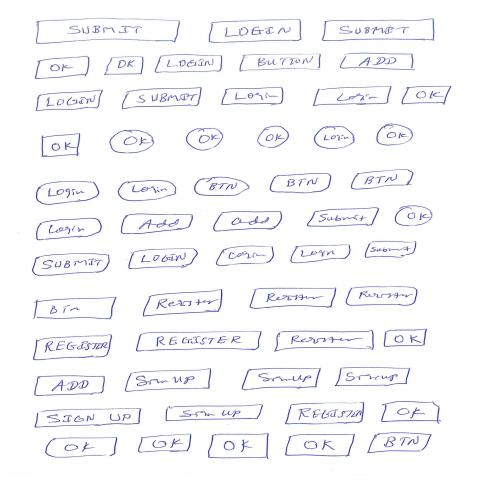Button: (36, 18, 182, 45), (136, 332, 263, 353), (322, 19, 436, 42), (208, 19, 303, 44), (34, 408, 143, 429), (143, 289, 224, 317), (274, 331, 376, 353), (33, 334, 113, 362), (126, 368, 213, 393), (32, 297, 118, 320), (249, 288, 338, 310), (241, 368, 322, 392), (285, 402, 365, 426), (122, 88, 203, 111), (32, 254, 111, 277), (312, 86, 394, 108), (166, 405, 264, 423), (208, 433, 271, 460), (239, 53, 322, 73), (334, 367, 413, 388), (285, 434, 356, 457), (121, 214, 195, 236), (45, 437, 119, 459), (36, 181, 101, 206), (128, 249, 199, 271), (307, 208, 381, 229), (36, 219, 103, 242), (213, 211, 283, 233), (346, 286, 419, 307), (34, 376, 106, 397), (36, 90, 104, 112), (340, 53, 417, 72), (351, 169, 415, 191), (35, 56, 91, 81), (381, 402, 444, 424), (367, 433, 433, 454), (117, 181, 178, 203), (270, 173, 333, 194), (155, 55, 224, 74), (216, 246, 275, 268), (221, 87, 285, 106), (109, 130, 155, 155), (291, 245, 351, 264), (194, 177, 250, 197), (314, 126, 356, 151), (138, 434, 193, 453), (42, 133, 82, 159), (401, 86, 453, 106), (365, 241, 418, 259), (186, 128, 225, 152), (376, 125, 415, 147), (384, 329, 429, 348), (395, 206, 434, 227), (257, 126, 290, 150), (104, 57, 145, 76)
